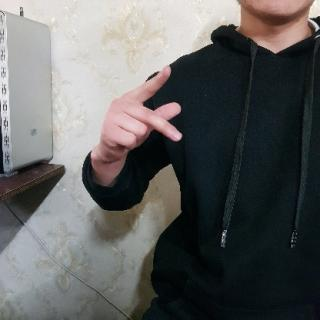DHAA: (94, 62, 192, 165)
